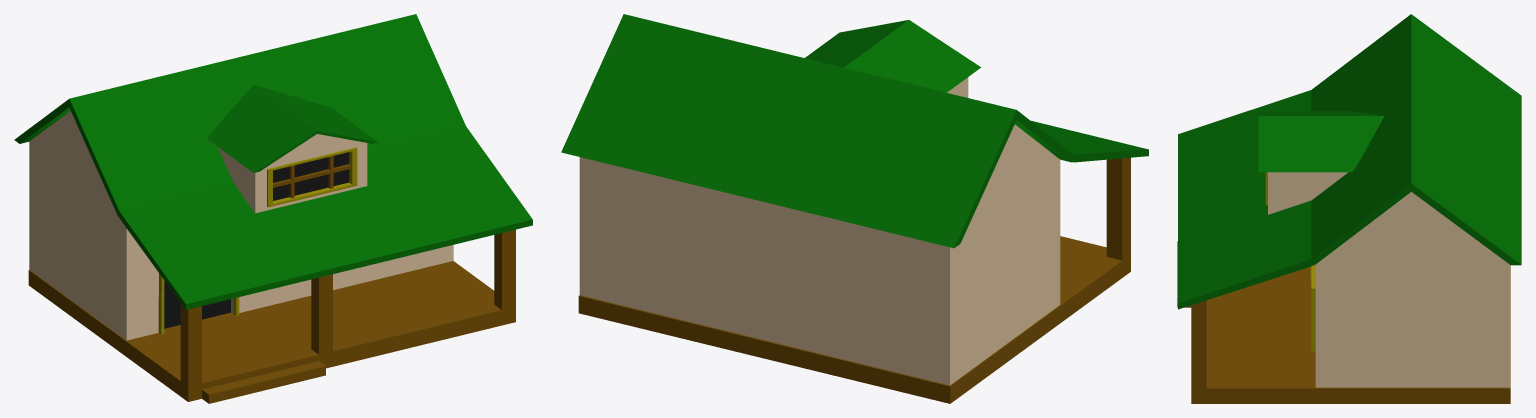
Rendered from house_2.fbx.
3 views of the same model, side by side, from view 1: azimuth 30°, elevation 25°; view 2: azimuth 150°, elevation 25°; view 3: azimuth 270°, elevation 25° (orthographic). The views are drawn at different scales.
Visible parts, largest first — view 1: House_will1_pCube162; view 2: House_will1_pCube162; view 3: House_will1_pCube162.
Boxes of the visible parts, x1,y1,x2,y2 form: House_will1_pCube162: (14, 14, 532, 403); House_will1_pCube162: (561, 14, 1148, 403); House_will1_pCube162: (1177, 14, 1521, 403).
Size of the model in its own units: 21.7 by 13.47 by 18.65.
